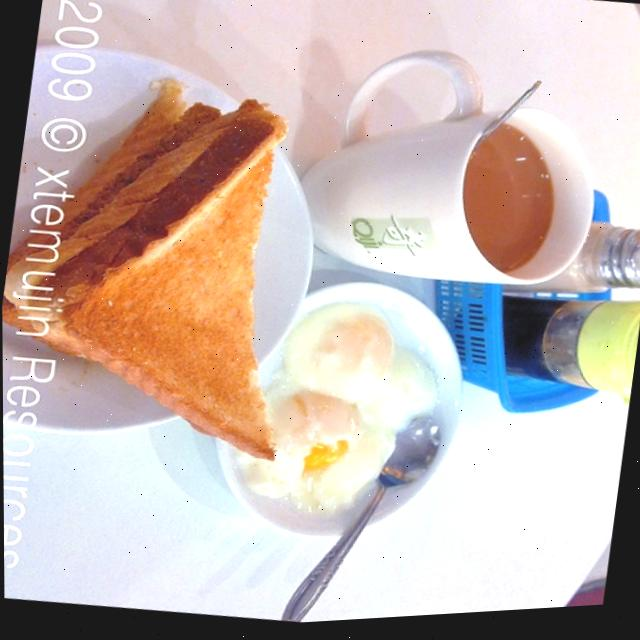面包点心: (0, 42, 334, 517)
